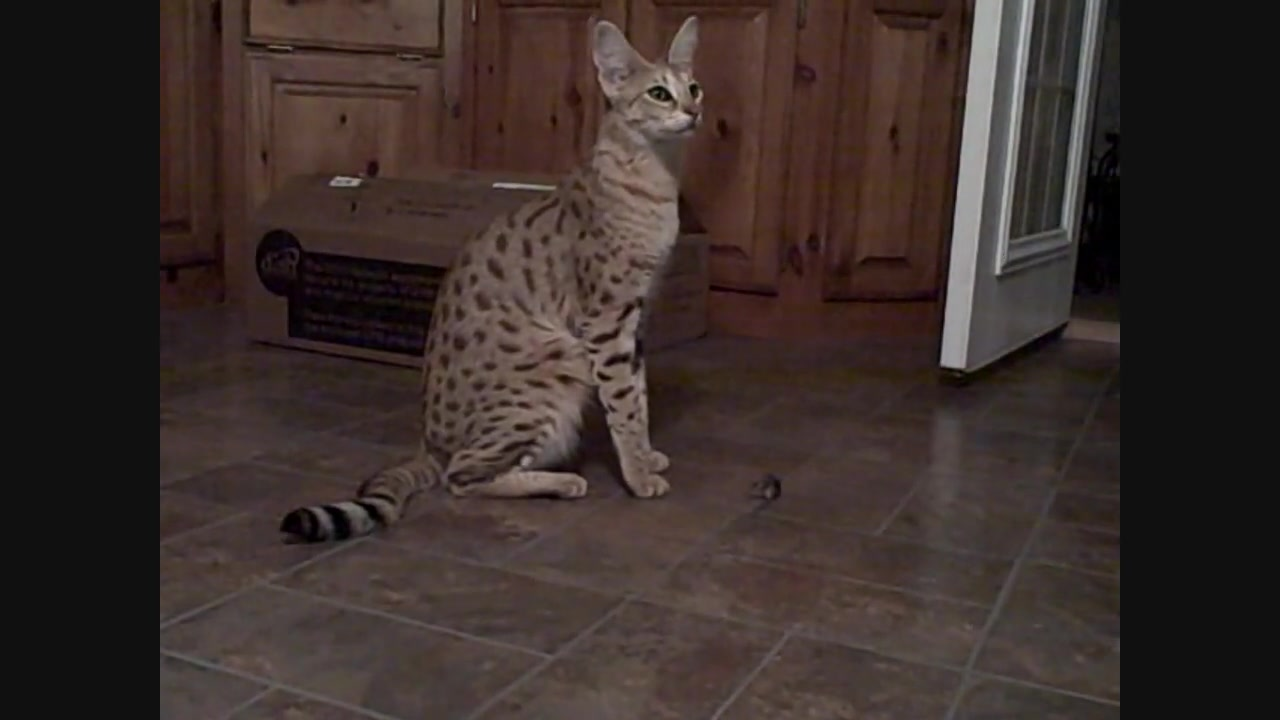cat: (278, 16, 707, 551)
